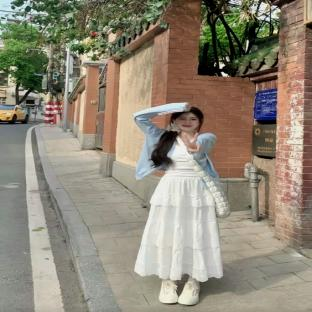Human: (133, 103, 229, 305)
